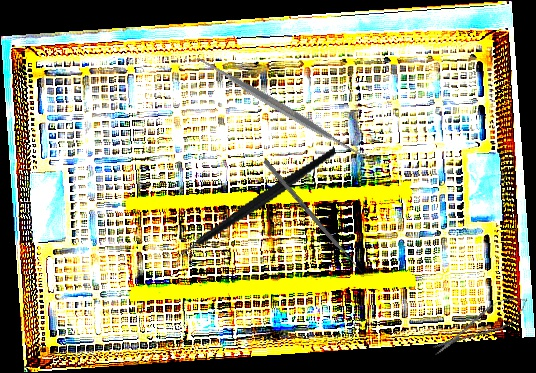Chopper: (157, 146, 355, 272)
Micro Scissor: (427, 287, 534, 364)
Pusher: (262, 159, 366, 276)
Spatula Surgical: (187, 46, 371, 168)
